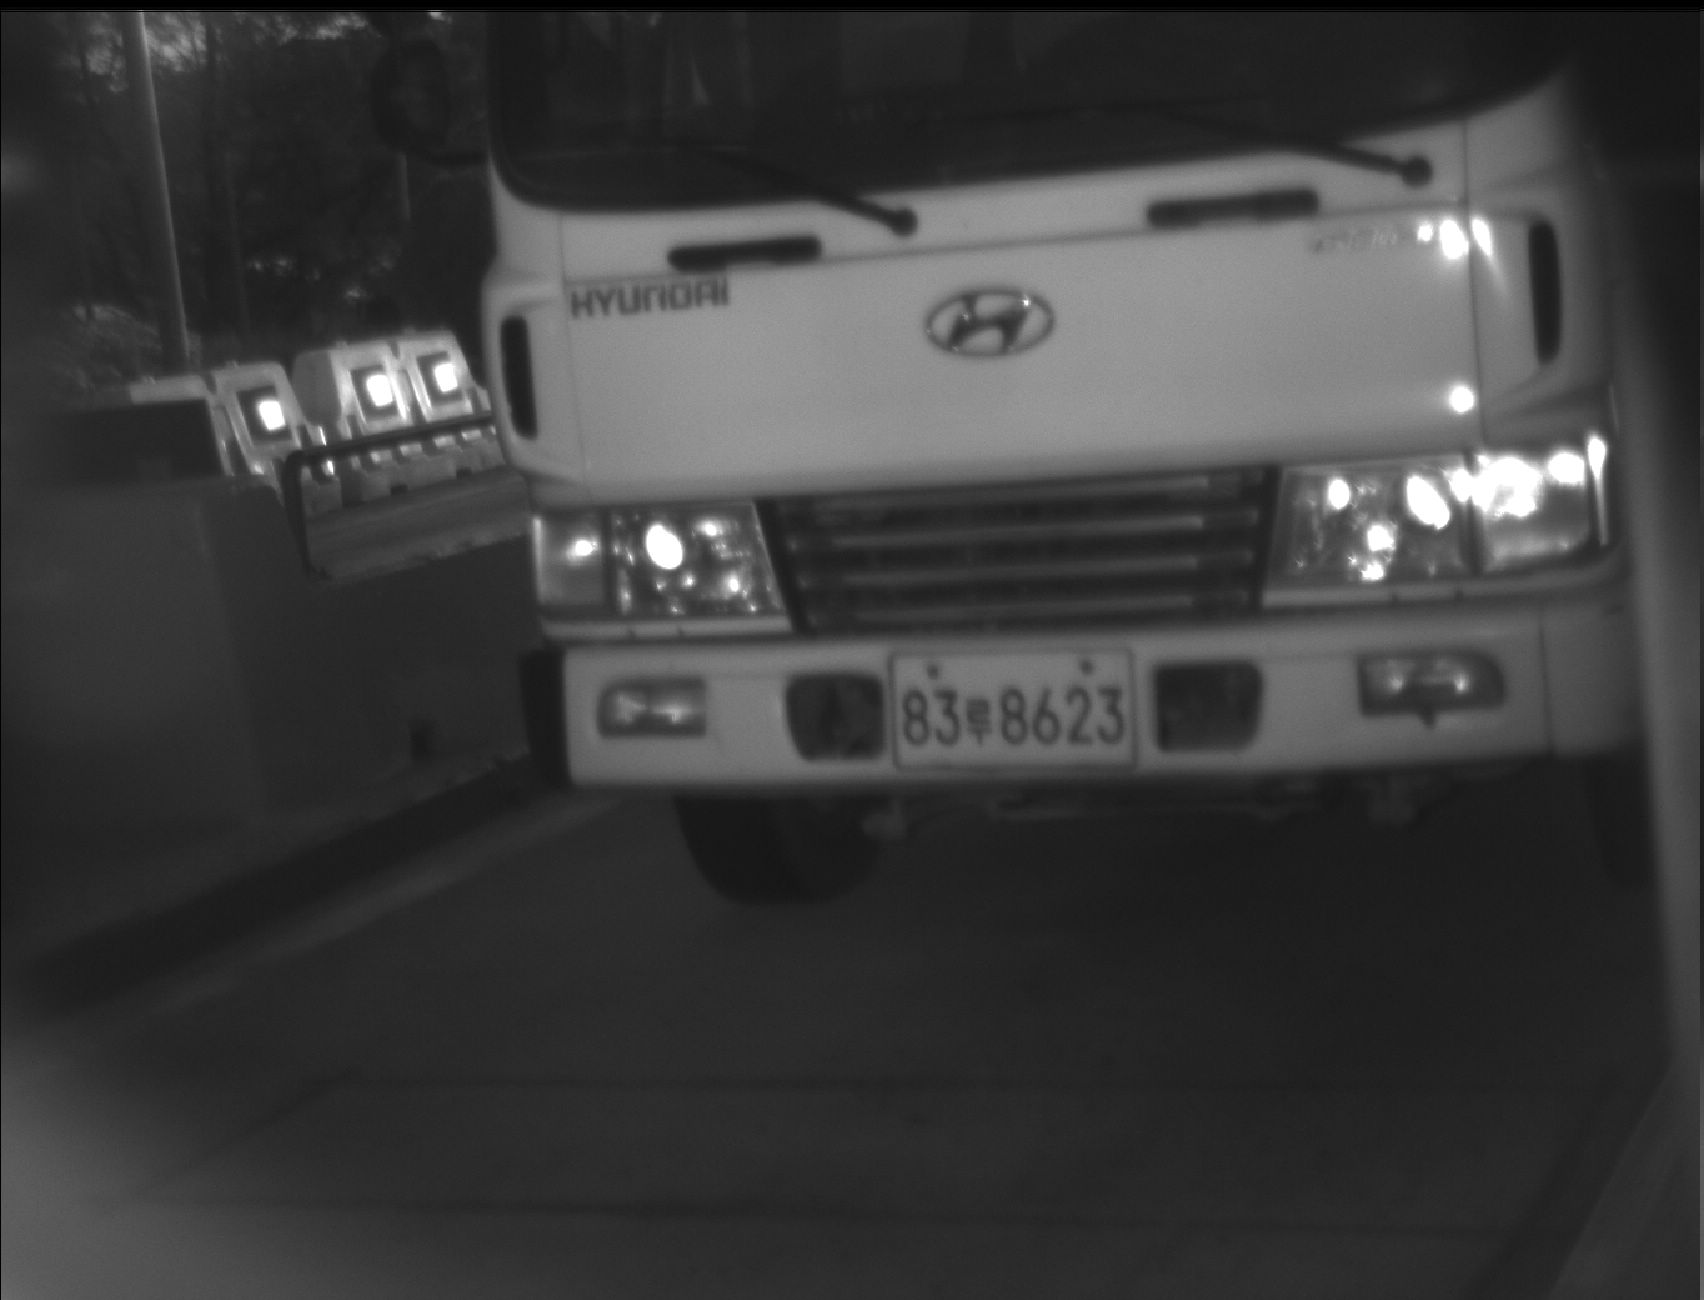car: (459, 1, 1629, 907)
plate: (884, 645, 1145, 773)
